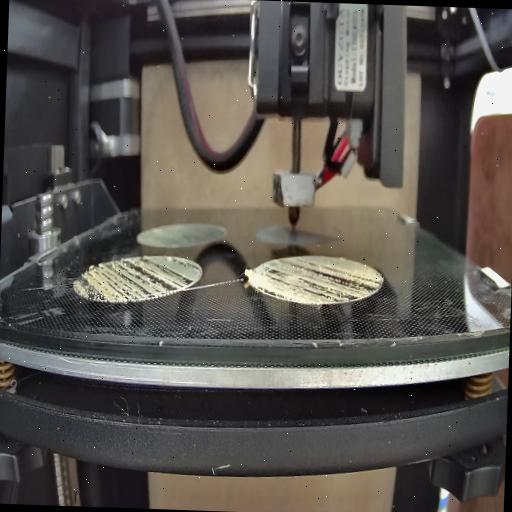under_extrusion: (72, 254, 198, 307), (258, 256, 382, 307)
